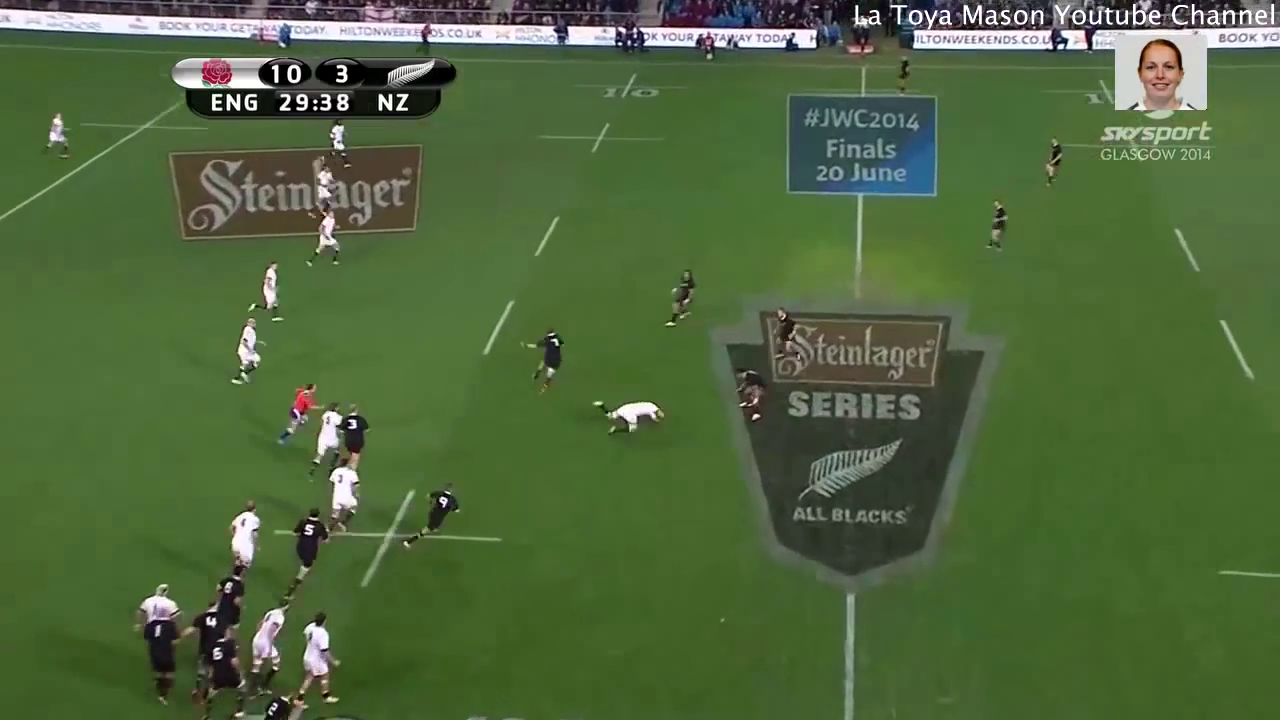10_metre: (272, 481, 511, 592), (529, 118, 666, 157), (570, 72, 689, 105)
player: (278, 504, 331, 605), (134, 604, 187, 705), (288, 606, 339, 707), (400, 479, 466, 551), (249, 592, 293, 700), (193, 624, 242, 720), (514, 320, 571, 395), (205, 553, 251, 644), (310, 388, 352, 482), (274, 377, 324, 453), (587, 396, 668, 442), (305, 197, 349, 272), (225, 494, 262, 580), (327, 398, 373, 466), (221, 316, 265, 385), (129, 576, 188, 624), (247, 257, 287, 323), (329, 458, 362, 536), (766, 300, 805, 360), (1037, 133, 1071, 199), (660, 267, 697, 327), (730, 364, 769, 417), (37, 109, 73, 160), (323, 119, 353, 171), (181, 598, 217, 641), (984, 196, 1010, 254), (309, 164, 337, 214)
